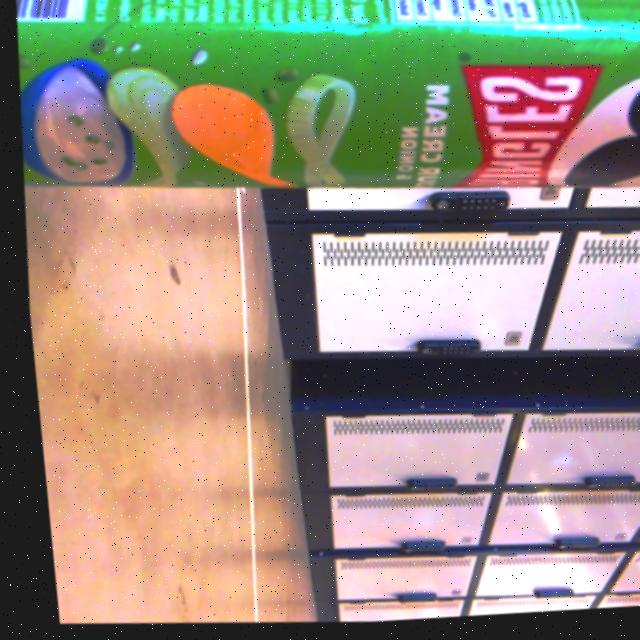greenpringles: (5, 0, 640, 244)
